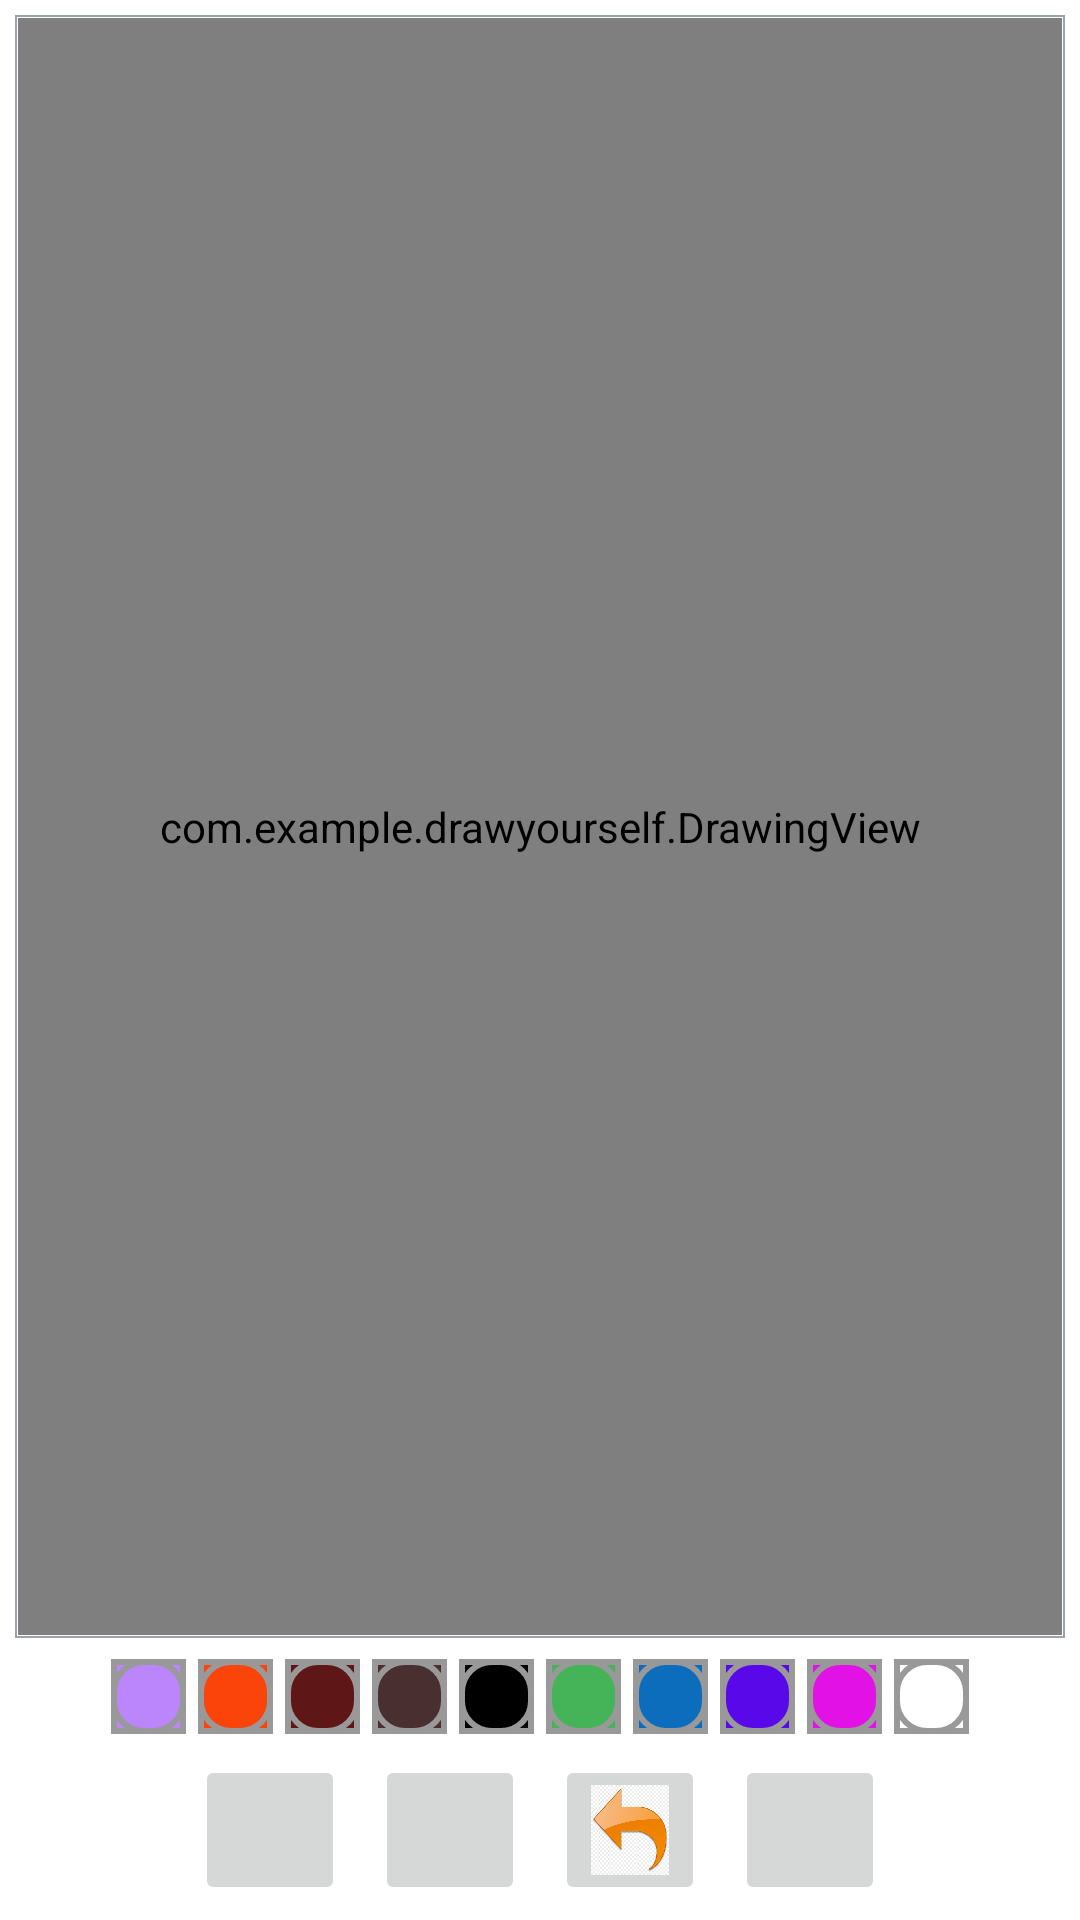

Where icons sit on this 1080px×1920px app screen, as (x1, y1, x2, y2):
undo: (567, 1773, 693, 1887)
